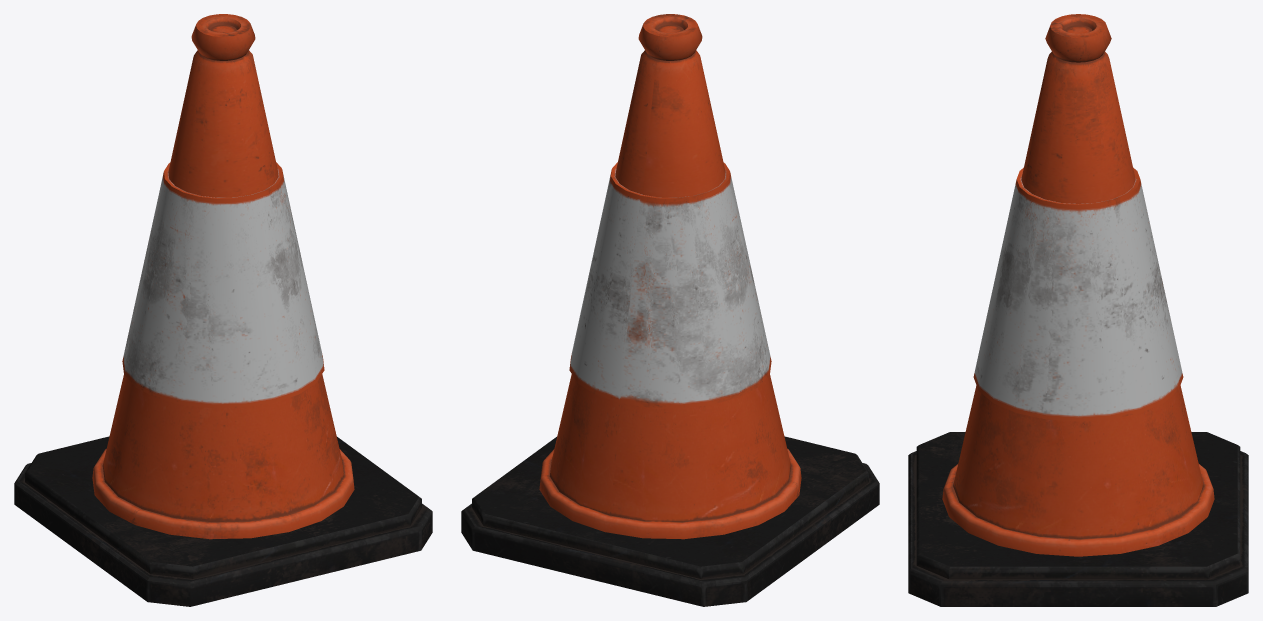
File: Prop_TrafficCone.fbx
3 views of the same model, side by side, from view 1: azimuth 30°, elevation 25°; view 2: azimuth 150°, elevation 25°; view 3: azimuth 270°, elevation 25° (orthographic). The views are drawn at different scales.
Parts seen in each view (by area): view 1: Prop_TrafficCone; view 2: Prop_TrafficCone; view 3: Prop_TrafficCone.
Boxes of the visible parts, x1=… form: Prop_TrafficCone: x1=14, y1=14, x2=432, y2=606; Prop_TrafficCone: x1=461, y1=14, x2=879, y2=606; Prop_TrafficCone: x1=908, y1=14, x2=1248, y2=606.
Bounding box in the file's own units: 19.69 × 32.54 × 19.69.
